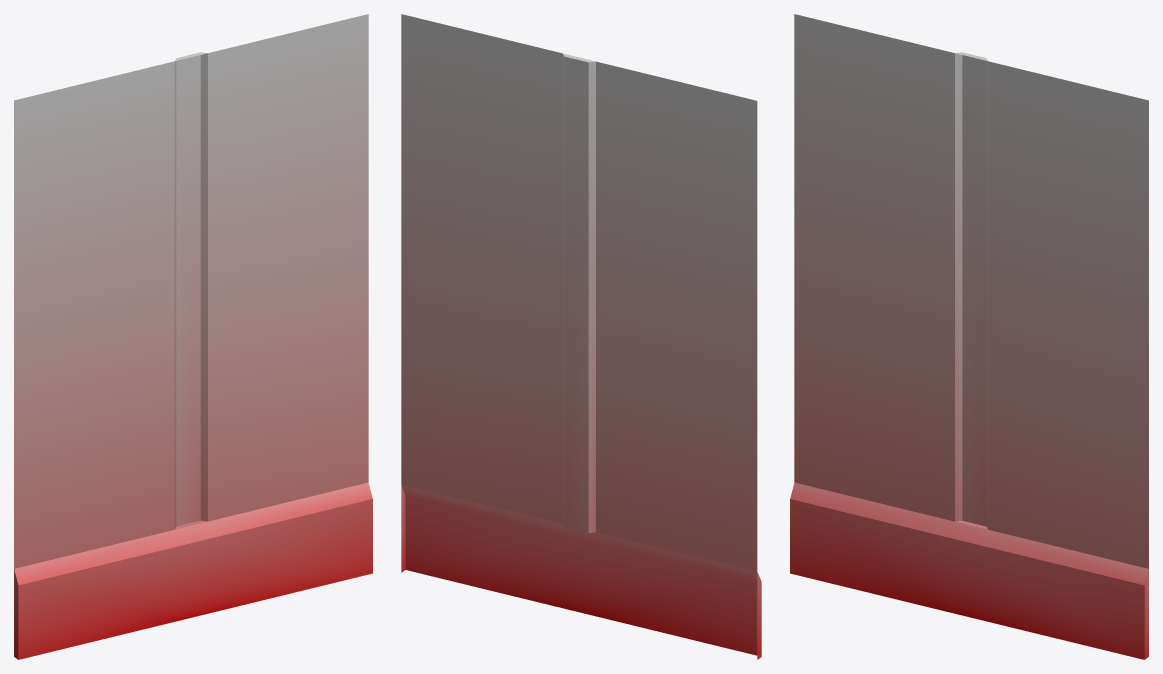
File: Metal_FirstFloor_Wall.gltf
The picture shows the model from 3 angles, left to right: view 1: azimuth 30°, elevation 25°; view 2: azimuth 150°, elevation 25°; view 3: azimuth 330°, elevation 25°; orthographic projection.
Visible parts, largest first — view 1: Metal_FirstFloor_Wall; view 2: Metal_FirstFloor_Wall; view 3: Metal_FirstFloor_Wall.
Part boxes in pixels (<box>): Metal_FirstFloor_Wall: <box>14,14,372,659</box>; Metal_FirstFloor_Wall: <box>401,14,761,659</box>; Metal_FirstFloor_Wall: <box>790,14,1148,659</box>.
Size of the model in its own units: 2 by 3 by 0.0693.
